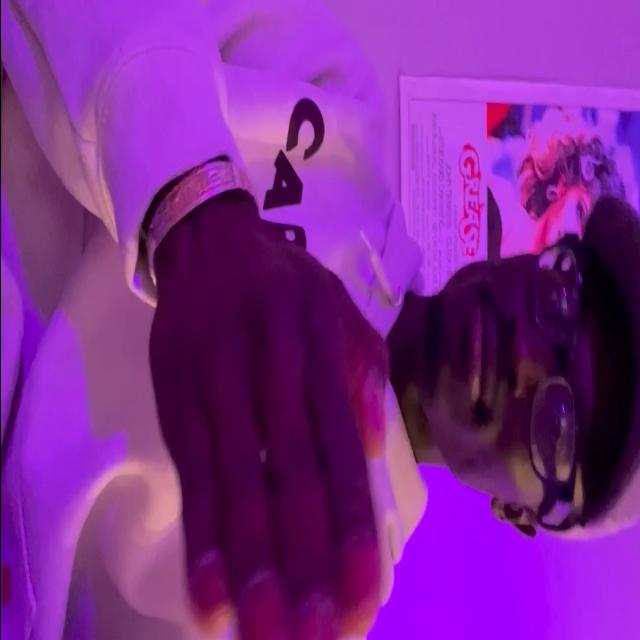Paper: (143, 210, 396, 640)
